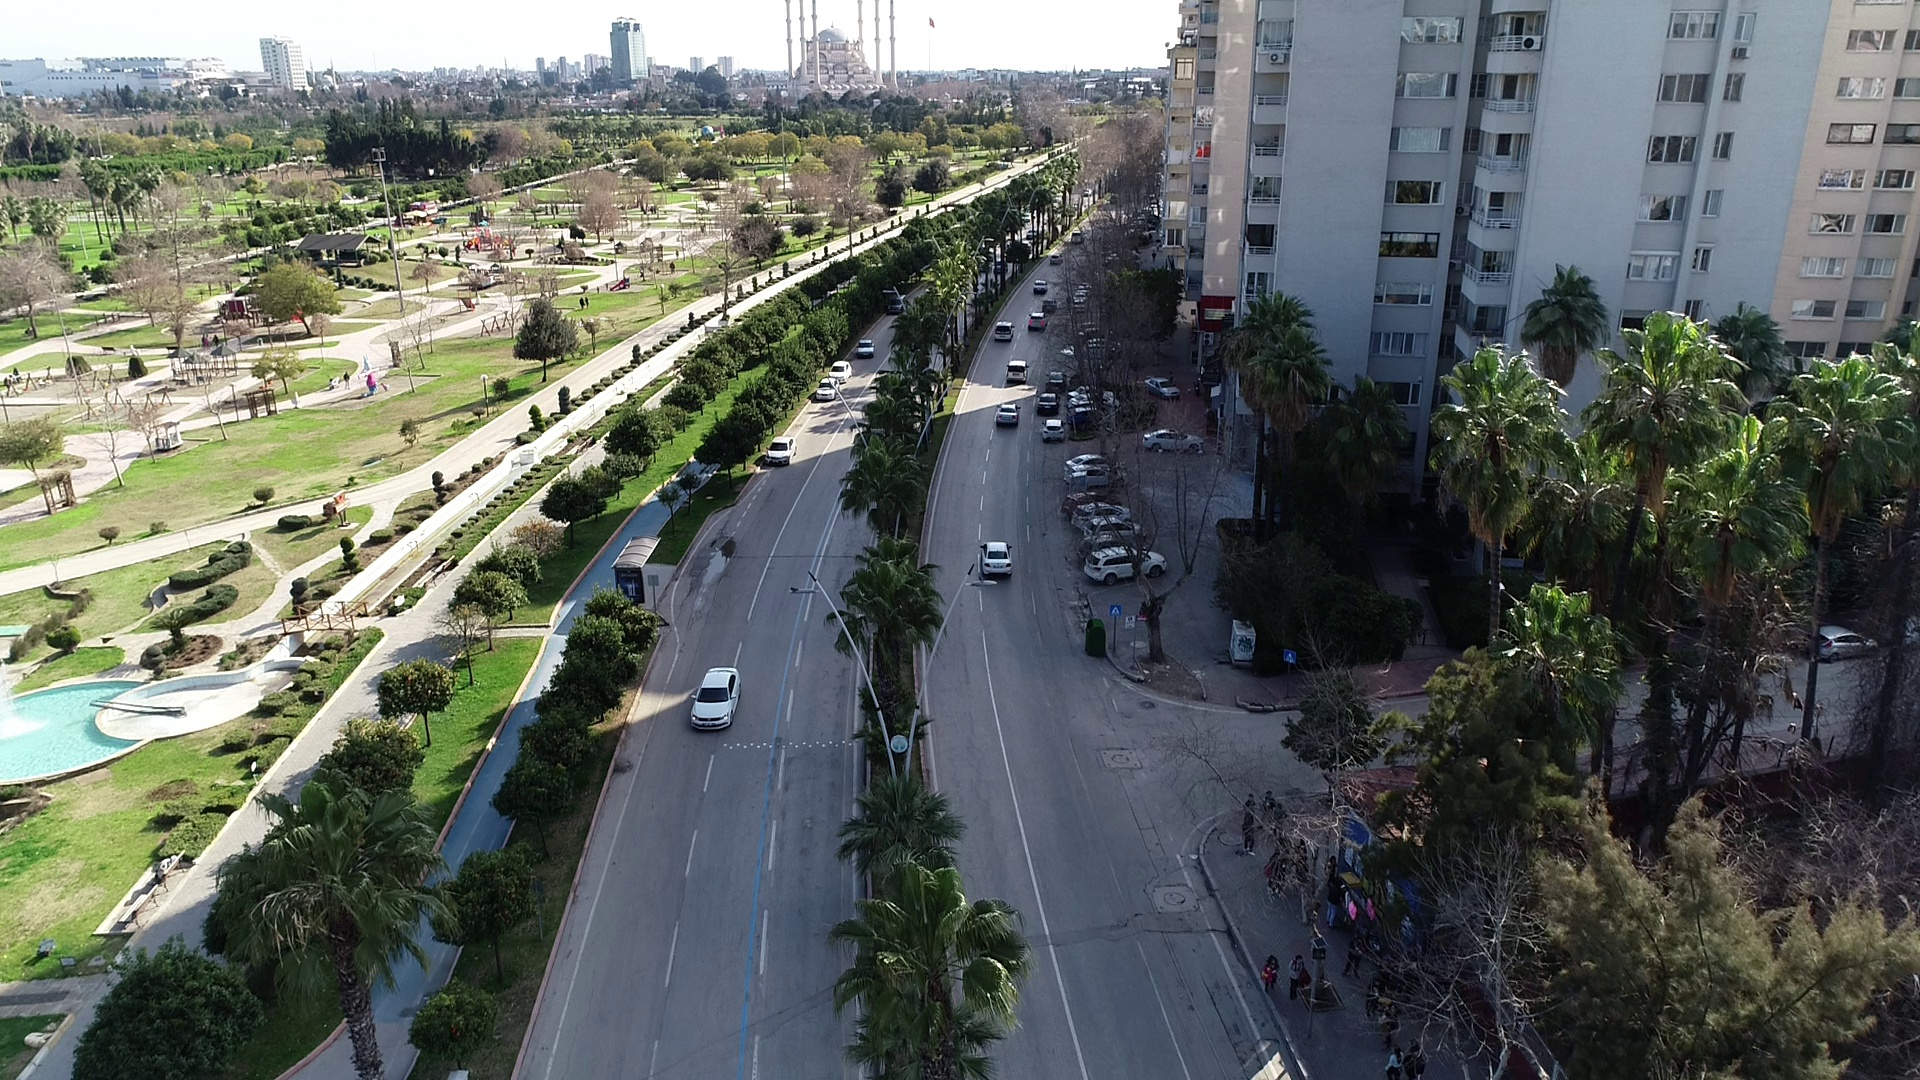car: (687, 660, 761, 738), (1080, 544, 1167, 585), (1142, 425, 1208, 459), (976, 538, 1019, 579), (1054, 486, 1110, 514), (1074, 503, 1130, 529), (1140, 371, 1183, 403), (764, 432, 801, 469), (1064, 451, 1119, 473), (1064, 465, 1117, 488), (994, 400, 1023, 428), (1003, 358, 1034, 384), (1041, 417, 1071, 443), (814, 375, 839, 404), (827, 357, 853, 384), (1033, 391, 1061, 415), (1043, 369, 1071, 393), (853, 337, 880, 361), (993, 318, 1017, 344), (886, 288, 908, 314), (1027, 310, 1049, 331), (1068, 225, 1085, 245), (1048, 251, 1064, 266), (1032, 279, 1049, 295)
person: (1403, 1031, 1433, 1079), (1242, 790, 1260, 857), (1324, 876, 1344, 931), (1287, 950, 1307, 1002), (1343, 935, 1364, 983), (1382, 1043, 1407, 1080), (1260, 951, 1282, 993), (1264, 782, 1278, 825), (1324, 852, 1342, 877), (340, 368, 353, 392), (576, 294, 585, 312)
